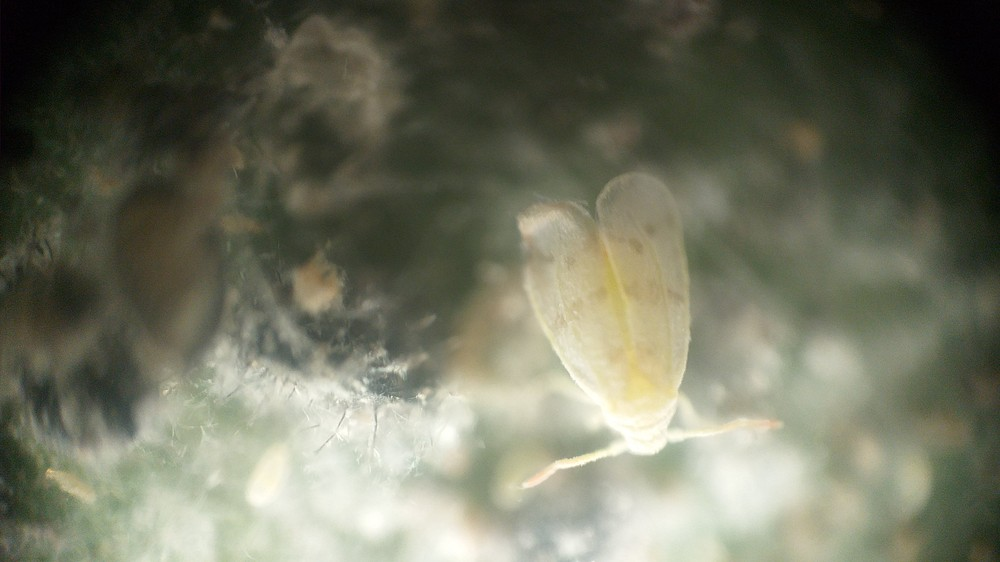Mosca Blanca: (461, 161, 828, 521)
